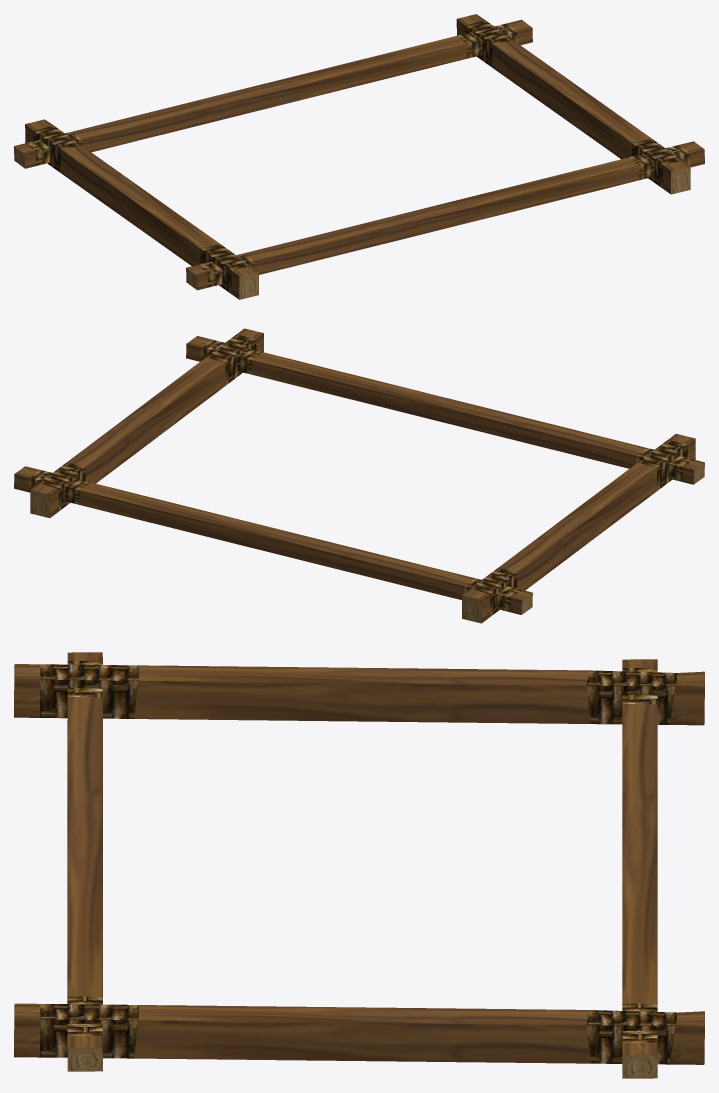
Rendered from Rack04.fbx.
3 renders of one model, top to bottom at view 1: azimuth 30°, elevation 25°; view 2: azimuth 150°, elevation 25°; view 3: azimuth 270°, elevation 25°, orthographic. The views are drawn at different scales.
Visible parts, largest first — view 1: Rack04; view 2: Rack04; view 3: Rack04.
Boxes of the visible parts, x1,y1,x2,y2 form: Rack04: (14,14,704,299); Rack04: (14,328,704,623); Rack04: (14,652,704,1078).
Bounding box in the file's own units: 5.97 × 0.32 × 4.36.
